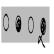correct: (14, 12, 22, 37)
no answer: (3, 12, 10, 34), (28, 14, 34, 36)
not correct: (37, 14, 47, 51)
